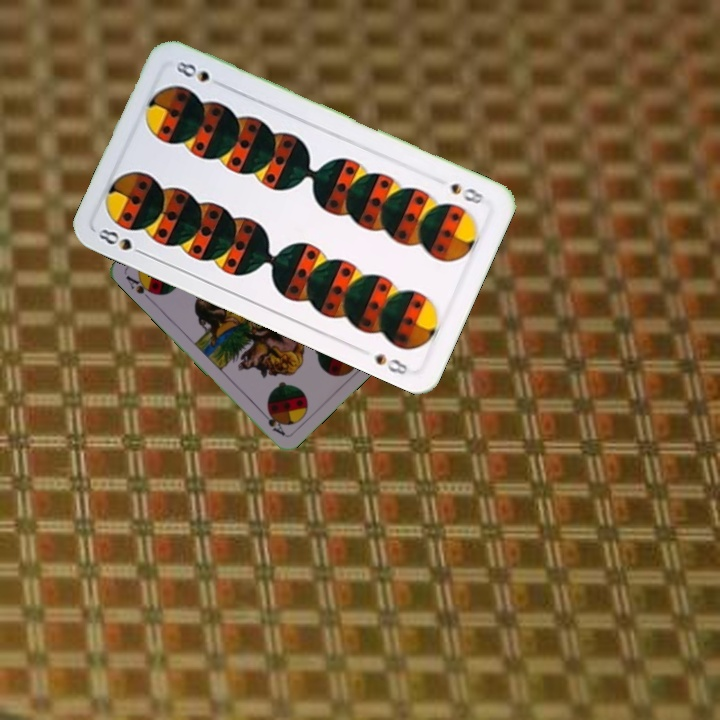S8: (94, 224, 150, 259), (446, 179, 487, 207)
SA: (121, 271, 159, 303)
